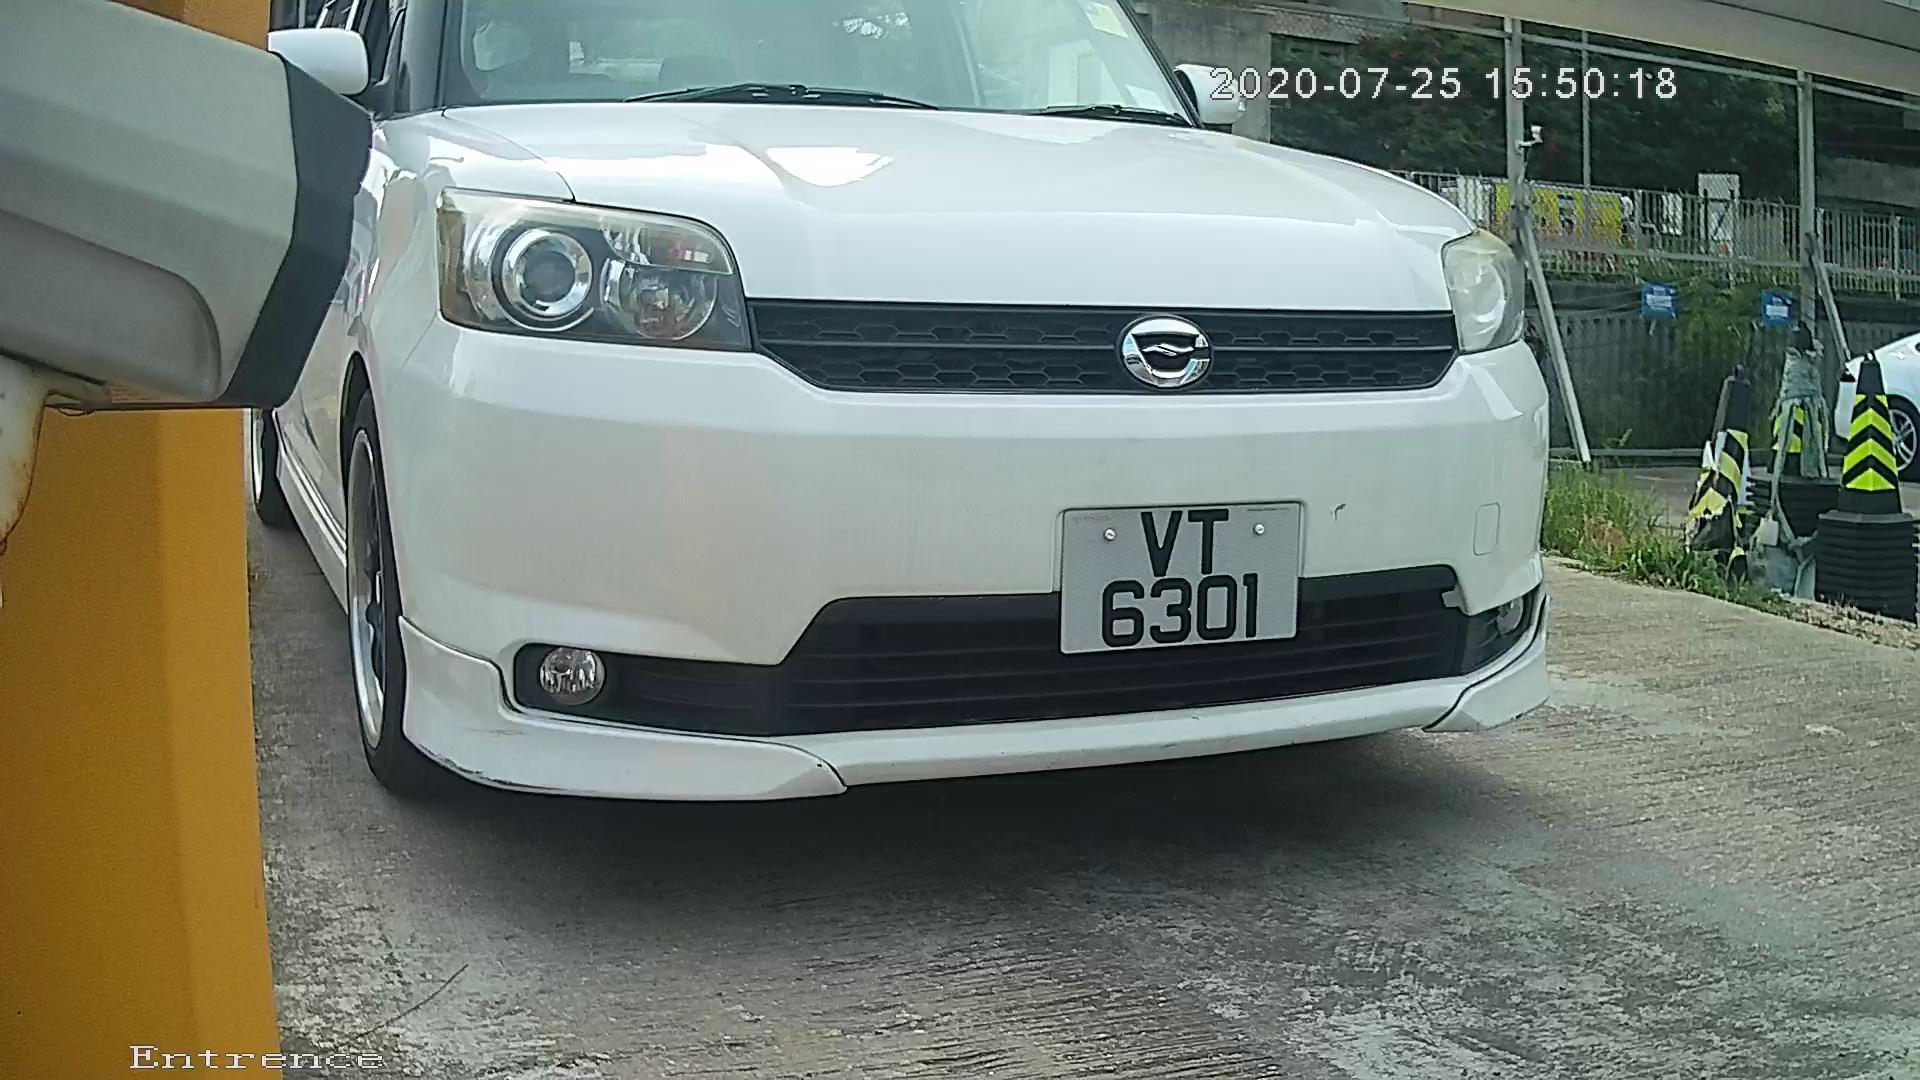License Plate: (1029, 483, 1321, 676)
